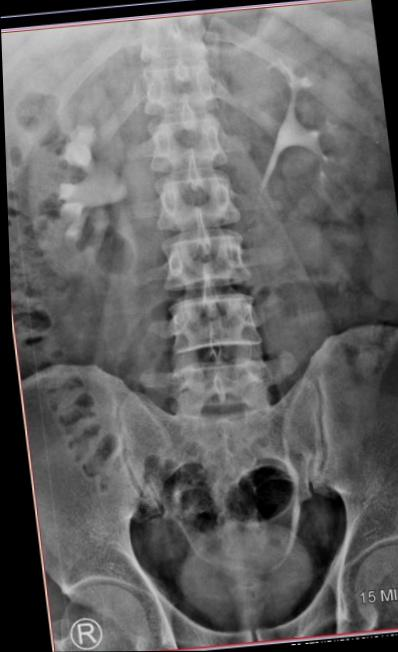bladder: (162, 515, 319, 647)
left kidney: (241, 29, 388, 230)
right kidney: (7, 77, 147, 295)
vertebrae: (142, 107, 228, 181)
